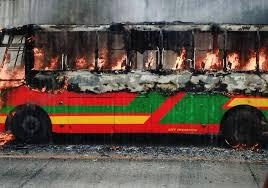fire: (74, 47, 129, 71), (196, 47, 221, 69), (173, 46, 186, 68)
